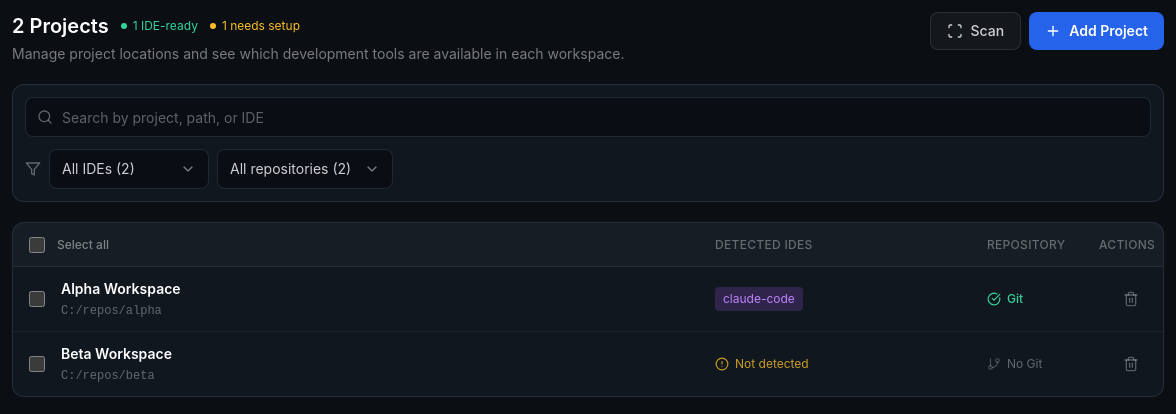
Test: ProjectsPage › keeps discovery controls visible and filters projects by search
Expected: the heading "2 Projects" is shown, [12,12,109,40]
Expected: the dropdown named "Filter by IDE" is shown, [49,149,209,189]
In the search field named "Search projects": (588,117) [25,97,1151,137], type "Beta"
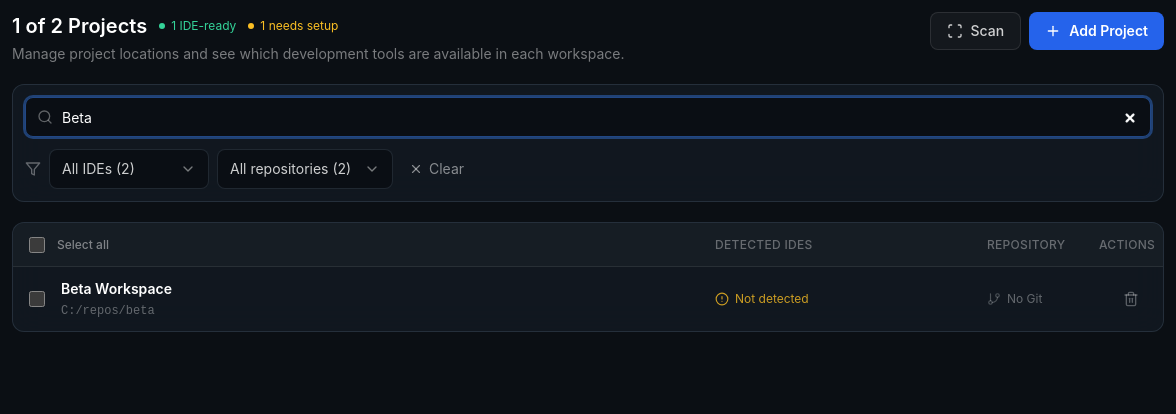
Expected: the heading "Beta Workspace" is shown, [61,279,172,299]
Expected: the heading "1 of 2 Projects" is shown, [12,12,147,40]
Expected: the heading "Alpha Workspace" is gone
Clear the search field named "Search projects": (588,117) [25,97,1151,137]
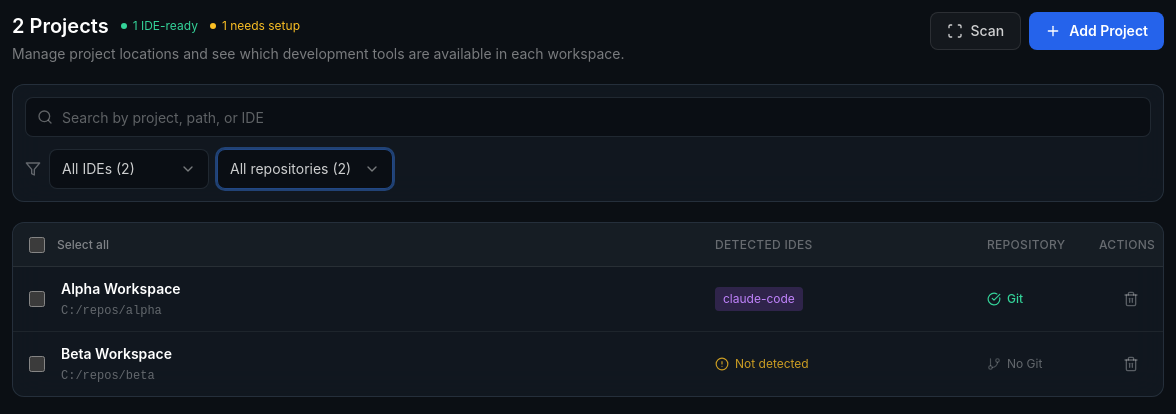
Expected: the heading "Alpha Workspace" is shown, [61,279,181,299]
Press Enter End Enter
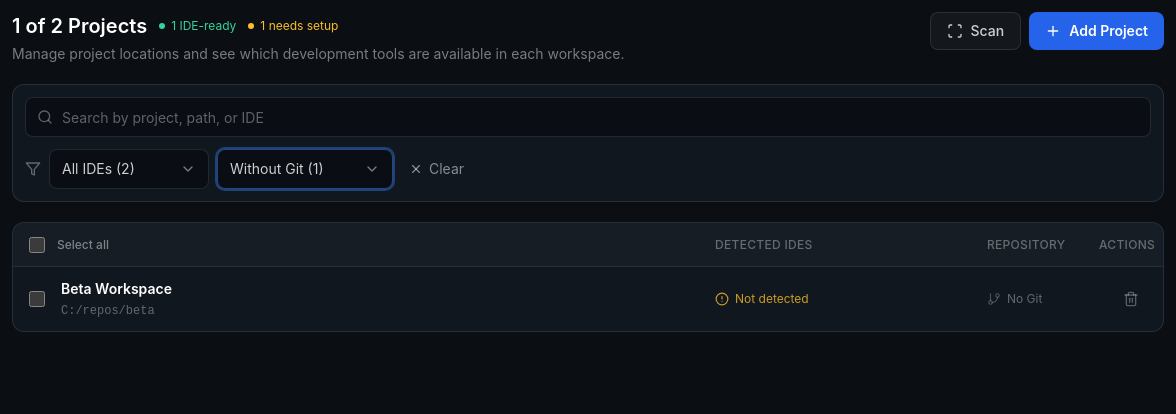
Expected: the heading "Beta Workspace" is shown, [61,279,172,299]
Expected: the heading "Alpha Workspace" is gone
